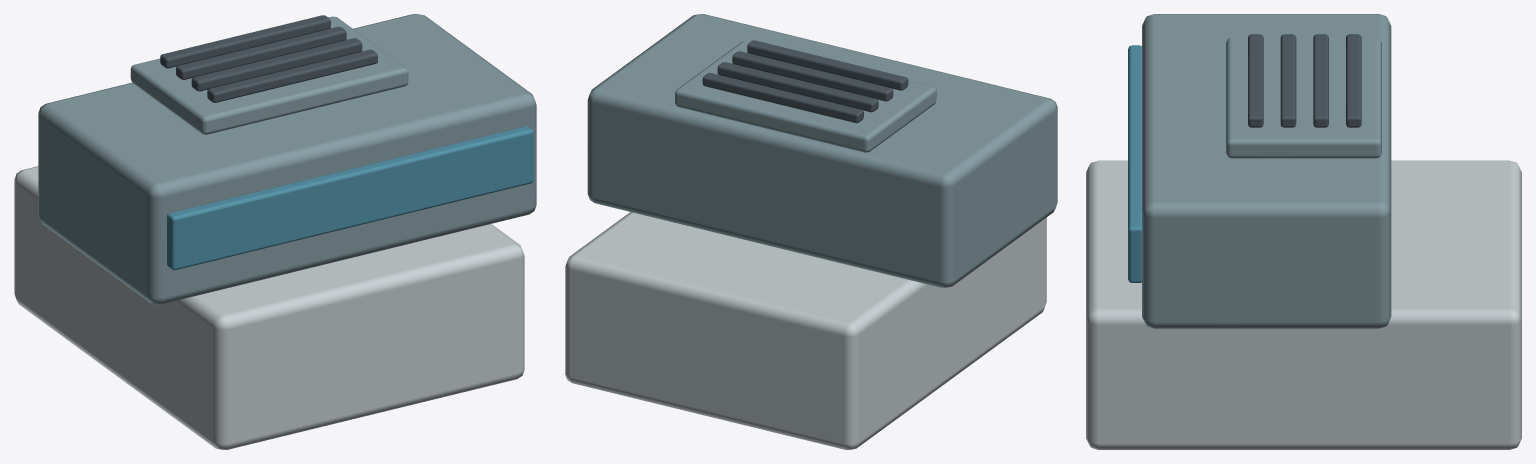
3 renders of one model, left to right at view 1: azimuth 30°, elevation 25°; view 2: azimuth 150°, elevation 25°; view 3: azimuth 270°, elevation 25°, orthographic. The views are drawn at different scales.
Parts seen in each view (by area): view 1: bridge-tower; view 2: bridge-tower; view 3: bridge-tower.
Part boxes in pixels (left/top/right/bottom): bridge-tower: left=14, top=14, right=536, bottom=449; bridge-tower: left=565, top=14, right=1057, bottom=449; bridge-tower: left=1086, top=14, right=1521, bottom=449.
Bounding box in the file's own units: 1.5 × 1.06 × 1.4.
